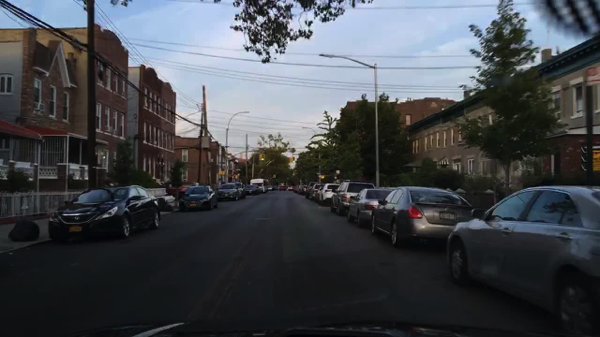car: (445, 186, 599, 336), (370, 187, 477, 248), (48, 186, 161, 242), (346, 187, 396, 228), (329, 179, 374, 216), (178, 186, 218, 213), (316, 183, 339, 207), (218, 184, 238, 201), (304, 182, 323, 199), (306, 183, 324, 199), (233, 183, 247, 198), (245, 185, 259, 194), (299, 184, 308, 195), (297, 184, 304, 193), (293, 185, 300, 192), (272, 185, 280, 191), (279, 185, 286, 191), (286, 186, 293, 191), (266, 186, 273, 191)
traffic light: (218, 170, 227, 176), (289, 157, 297, 162), (260, 154, 264, 161), (320, 175, 327, 179)
traffic sign: (586, 67, 599, 86), (591, 148, 599, 172)
truck: (250, 178, 270, 192)
